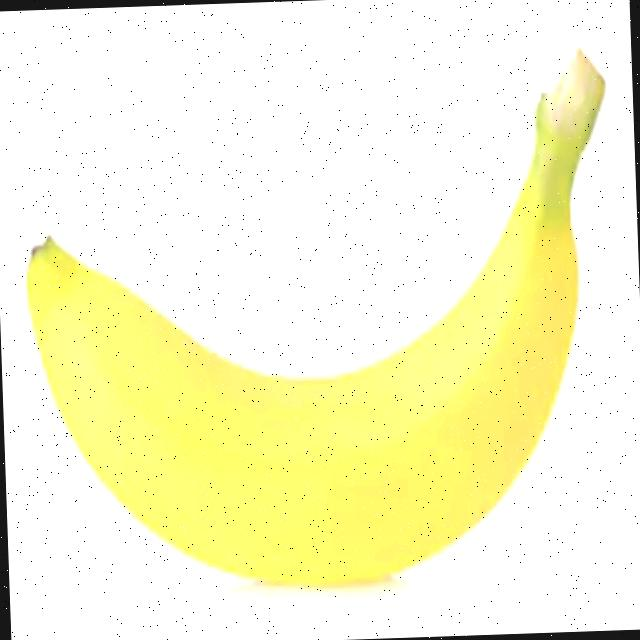Ripe: (11, 39, 630, 606)
